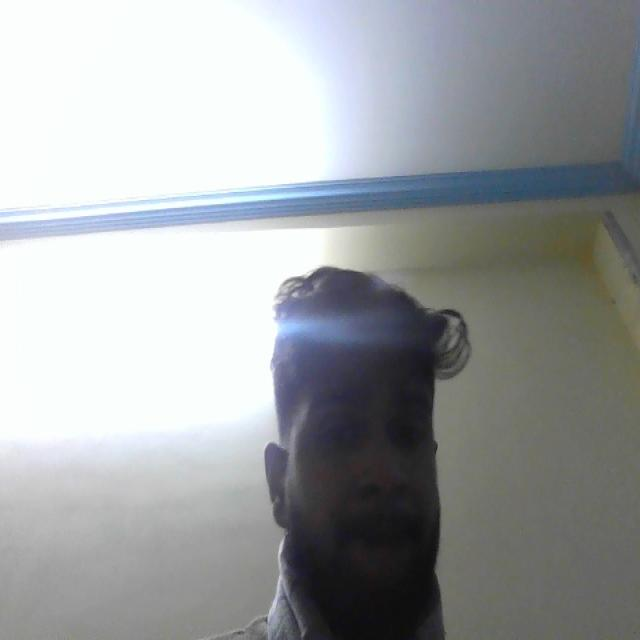real: (263, 242, 462, 618)
